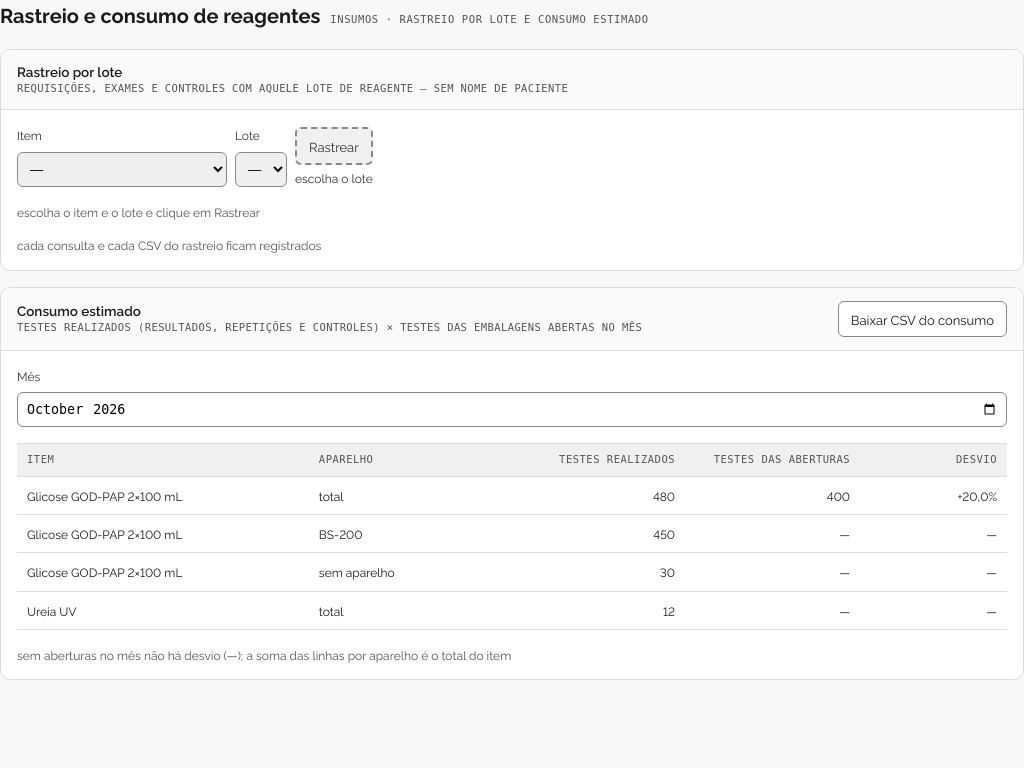
Test: LabTraceability › avisa quando o api cortou a lista em 5000
Select "Glicose GOD-PAP 2×100 mL" in the dropdown labelled "Item": (122, 169) [17,152,227,187]
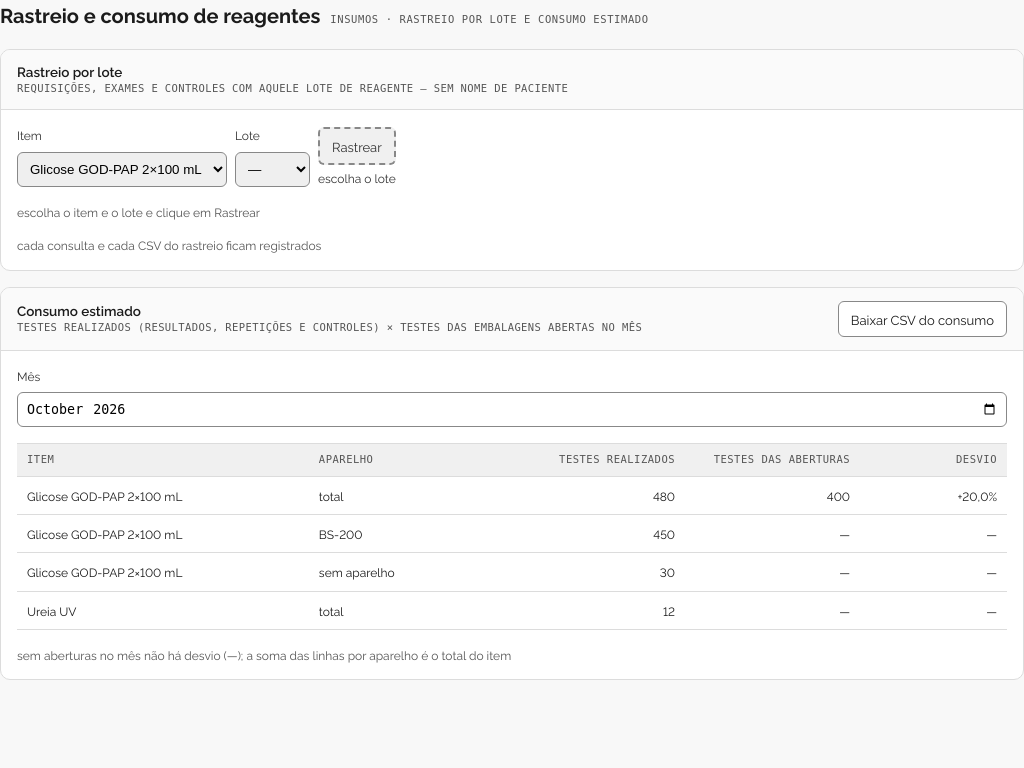
Select "R-778" in the dropdown labelled "Lote": (272, 169) [235,152,310,187]
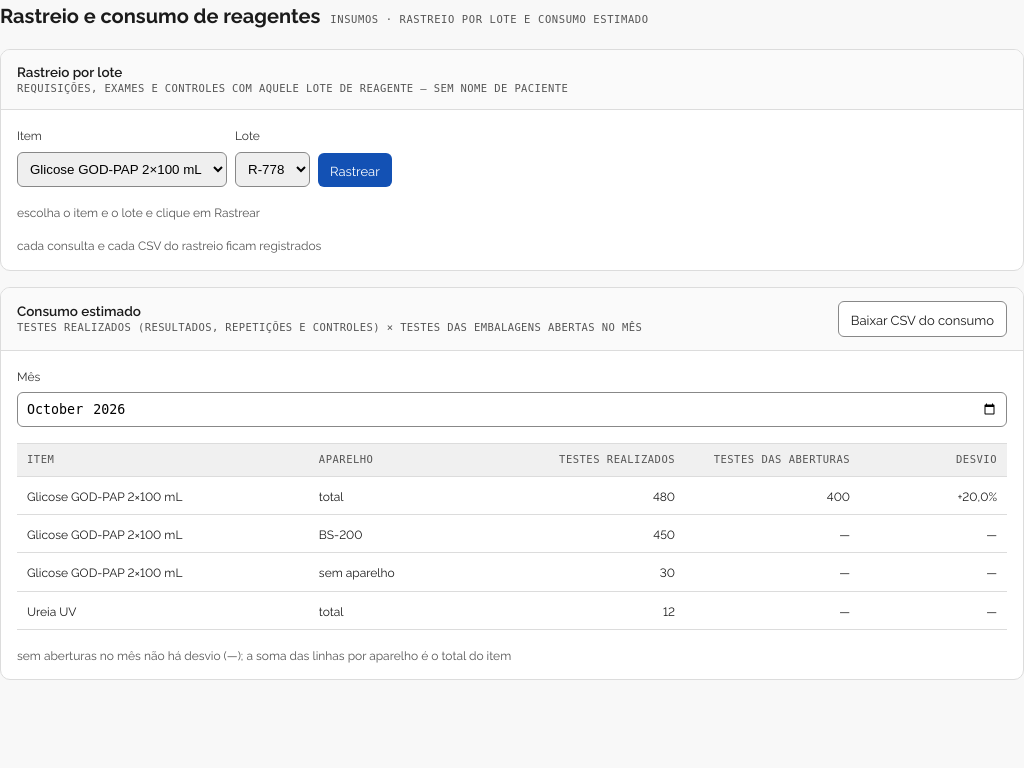
Click the button "Rastrear": (355, 170) [318,153,392,187]
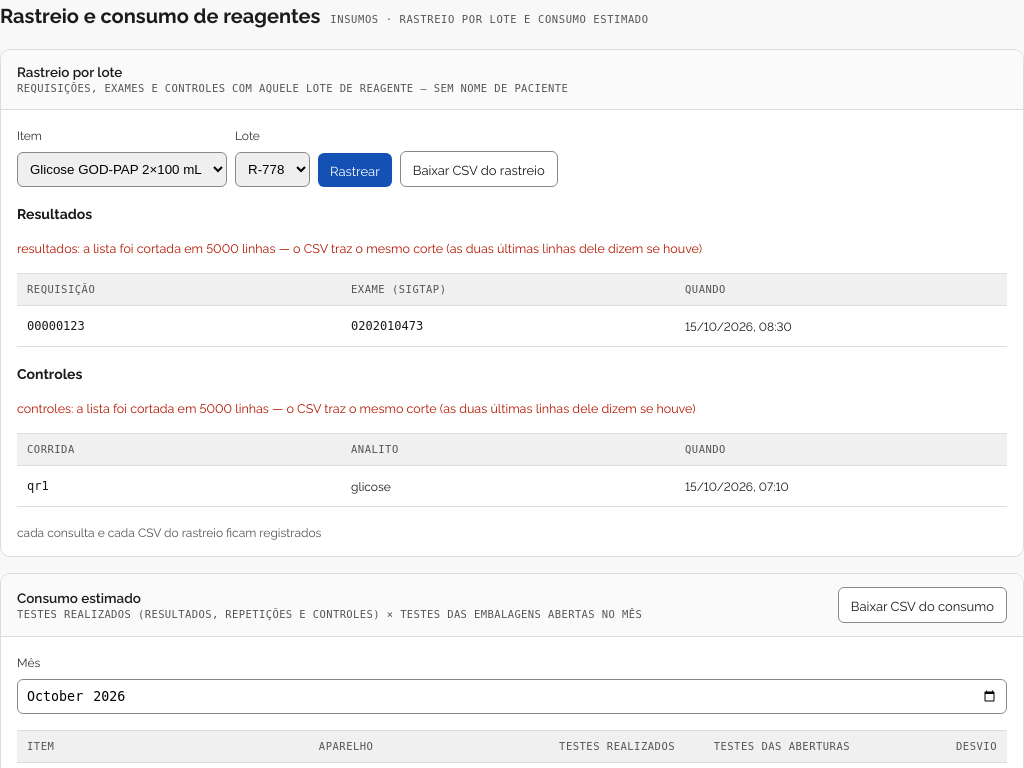
Result: the text "resultados: a lista foi cortada em 5000" is shown at [17,239,702,256]
Result: the text "controles: a lista foi cortada em 5000" is shown at [17,399,696,416]
